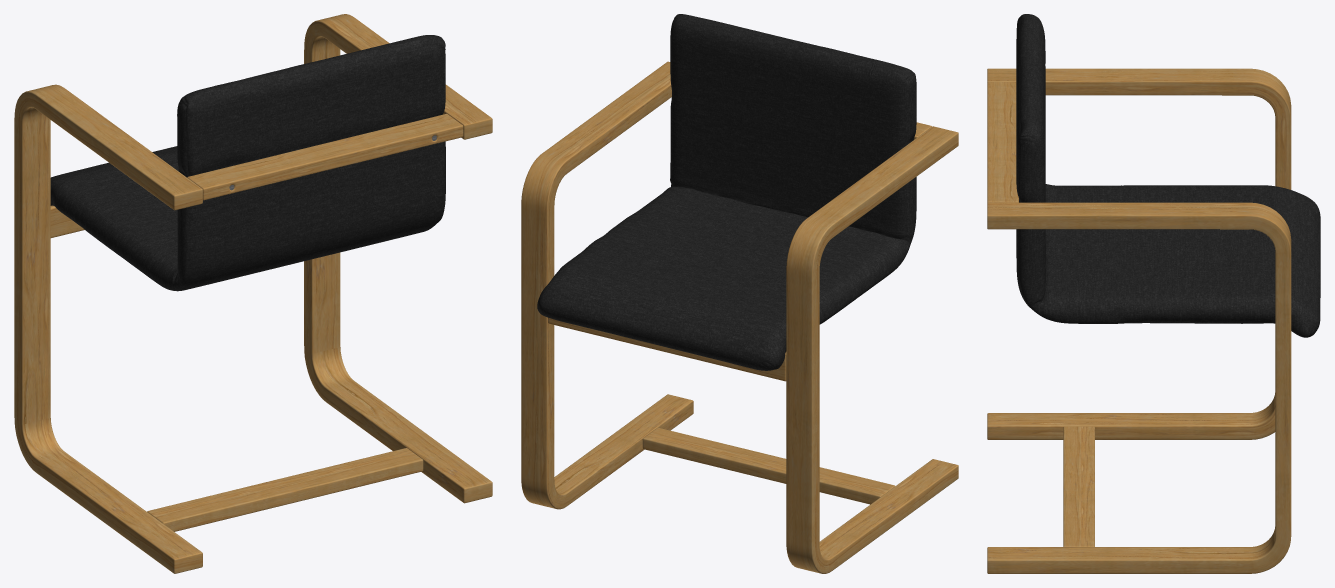
The model's file is zidle_02.gltf.
3 views of the same model, side by side, from view 1: azimuth 30°, elevation 25°; view 2: azimuth 150°, elevation 25°; view 3: azimuth 270°, elevation 25° (orthographic). The views are drawn at different scales.
Parts seen in each view (by area): view 1: object_10.004, object_3.006, object_3.007, object_4.004, object_1.007, object_4.005; view 2: object_10.004, object_3.006, object_3.007, object_1.007, object_4.005; view 3: object_10.004, object_3.007, object_3.006, object_1.007, object_4.004.
Boxes of the visible parts, x1,y1,x2,y2 form: object_10.004: [50, 35, 445, 291]; object_3.006: [14, 84, 202, 573]; object_3.007: [304, 14, 492, 503]; object_4.004: [187, 113, 463, 200]; object_1.007: [147, 448, 423, 531]; object_4.005: [50, 205, 84, 237]; object_10.004: [537, 14, 916, 370]; object_3.006: [786, 126, 958, 573]; object_3.007: [521, 61, 693, 509]; object_1.007: [642, 427, 895, 504]; object_4.005: [548, 317, 786, 381]; object_10.004: [1016, 14, 1320, 337]; object_3.007: [987, 202, 1291, 573]; object_3.006: [987, 68, 1291, 439]; object_1.007: [1063, 426, 1094, 546]; object_4.004: [987, 82, 1018, 202].
Bounding box in the file's own units: 0.5504 × 0.7524 × 0.5265.
5 materials, 4 textured.
